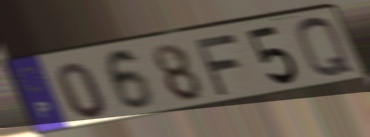0: (54, 58, 110, 121)
5: (244, 24, 299, 87)
6: (102, 47, 159, 115)
8: (153, 43, 204, 103)
F: (191, 31, 241, 99)
Q: (294, 15, 359, 81)
